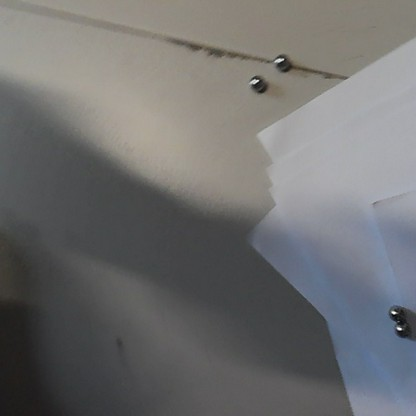ironball: (268, 46, 296, 74), (247, 71, 270, 96), (384, 301, 399, 318), (391, 319, 406, 335)
